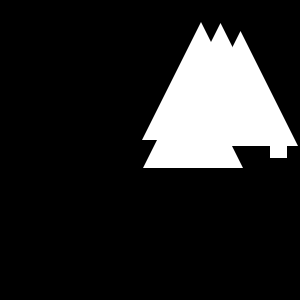circle: (270, 141, 287, 158)
triangle: (161, 23, 280, 142), (142, 22, 260, 140), (183, 31, 298, 146), (143, 68, 243, 168)
